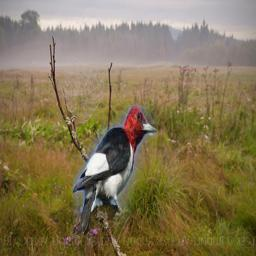Woodpecker: (73, 105, 157, 235)
